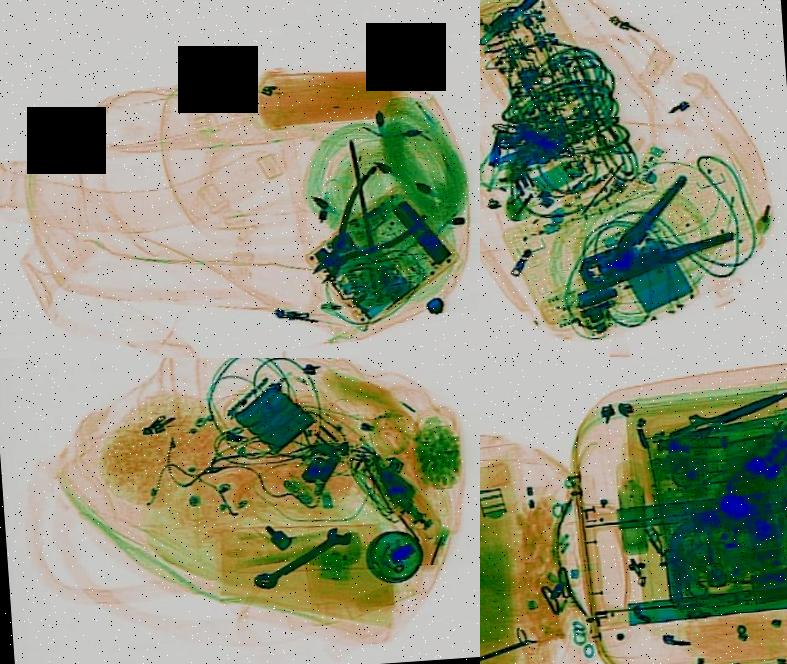Knife: (651, 375, 787, 444)
Pliers: (560, 156, 740, 322), (282, 149, 435, 313)
Wrench: (243, 518, 360, 596)
